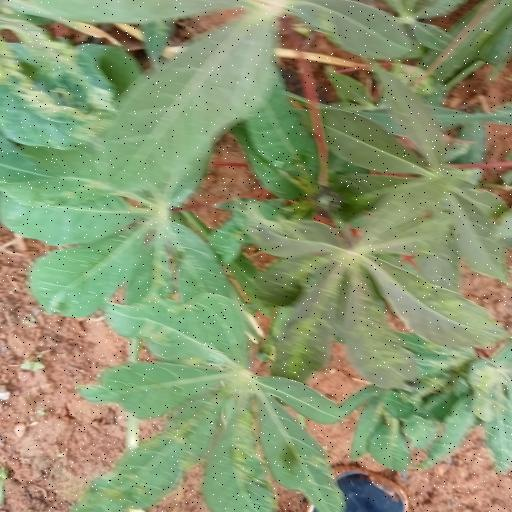Cassava_Mosaic: (96, 296, 375, 512), (252, 186, 509, 388)
